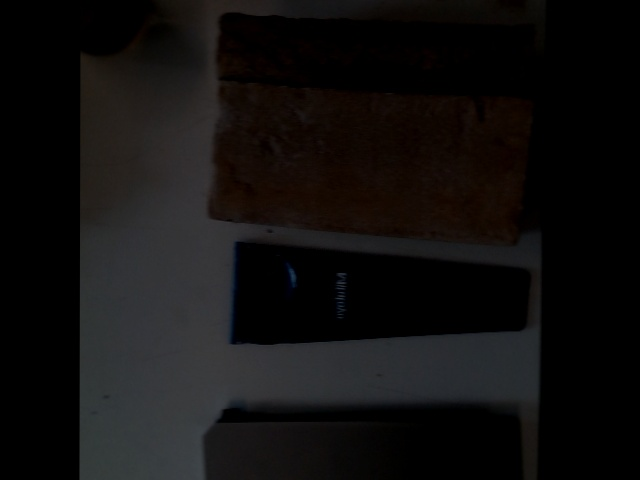brick: (210, 78, 528, 245)
